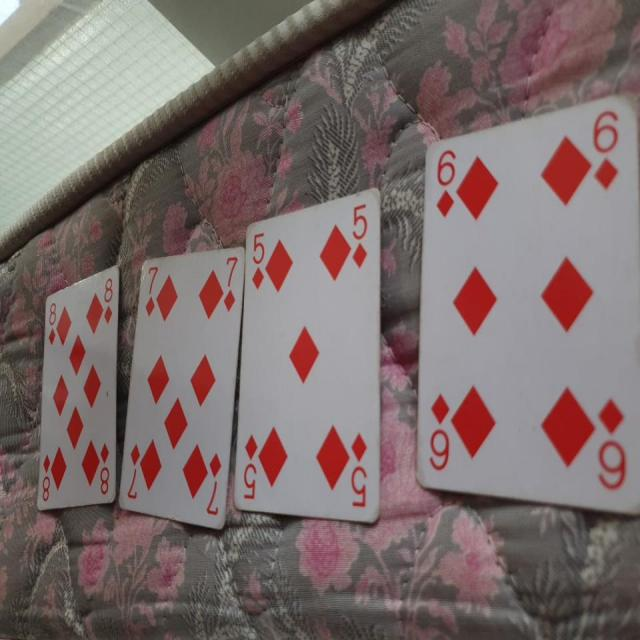5 Diamonds: (232, 185, 381, 526)
6 Diamonds: (414, 92, 639, 514)
7 Diamonds: (117, 244, 246, 536)
8 Diamonds: (36, 264, 119, 510)
